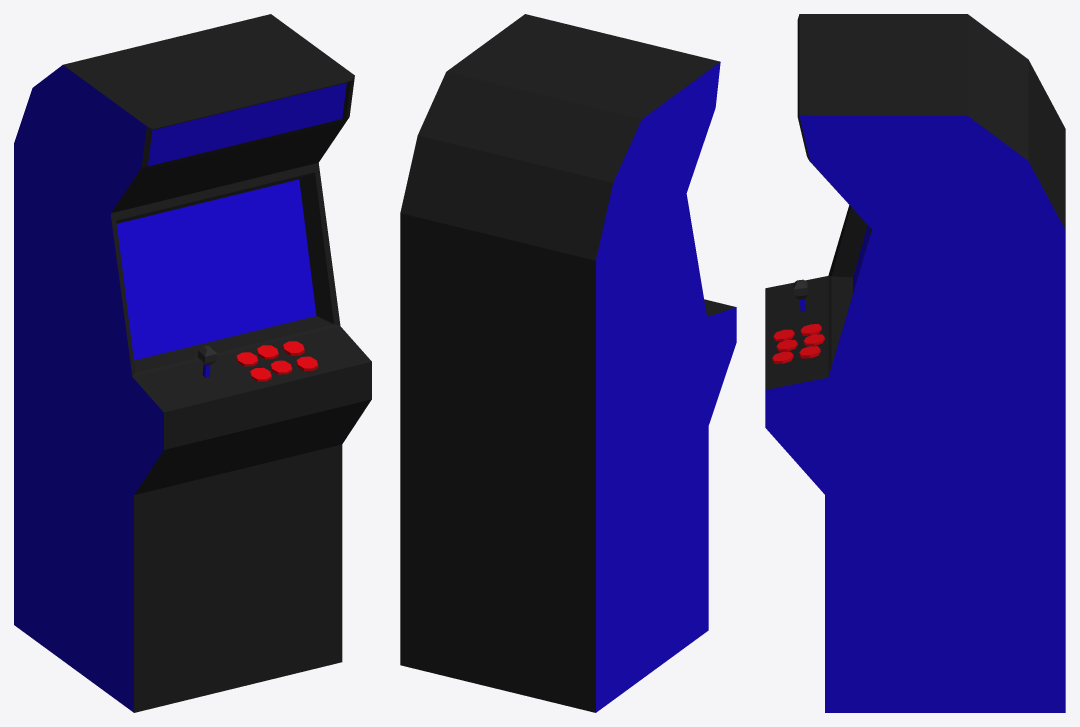
The model's file is arcade machine.fbx.
3 views of the same model, side by side, from view 1: azimuth 30°, elevation 25°; view 2: azimuth 150°, elevation 25°; view 3: azimuth 270°, elevation 25° (orthographic). The views are drawn at different scales.
Parts seen in each view (by area): view 1: Cube.004; view 2: Cube.004; view 3: Cube.004.
Part boxes in pixels (box(x1,y1,x2,y2)): Cube.004: box(14, 14, 371, 712); Cube.004: box(400, 14, 736, 712); Cube.004: box(765, 14, 1065, 712).
Bounding box in the file's own units: 200 × 547 × 249.
